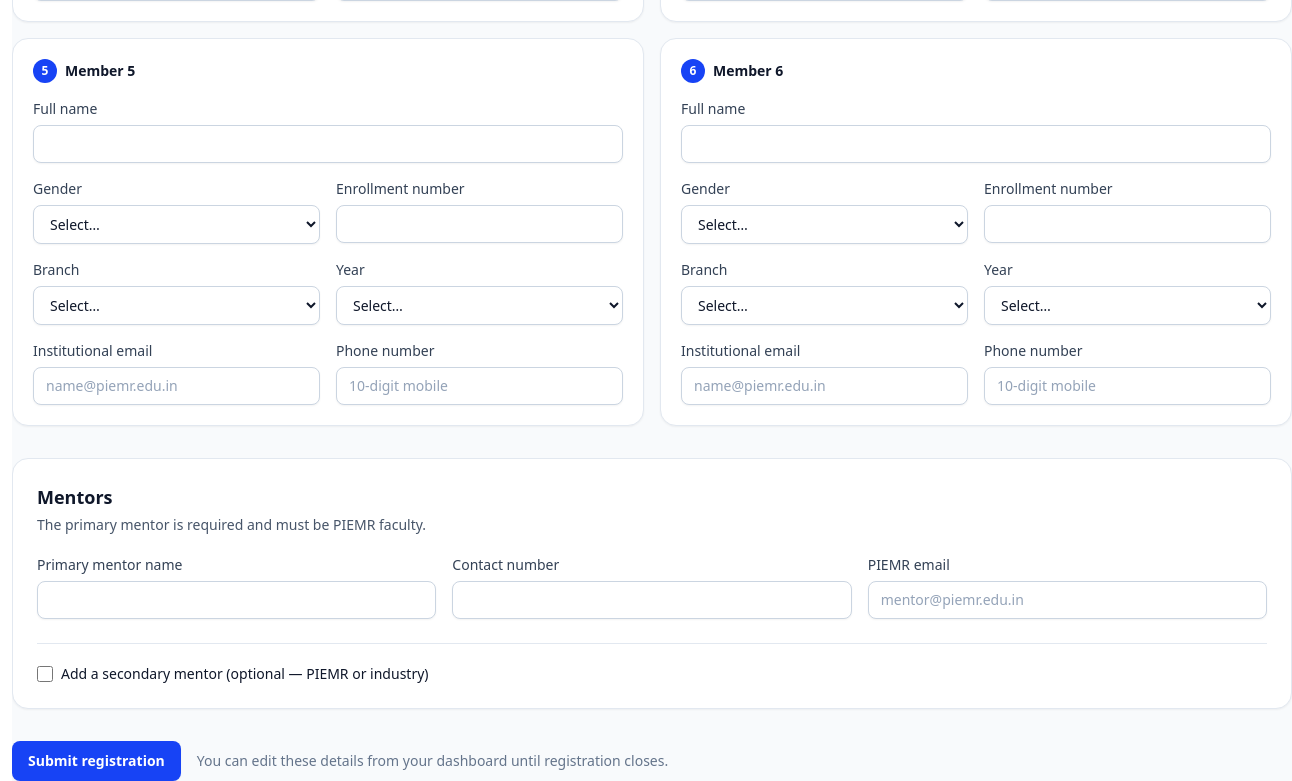
Test: team registration form › does not submit an empty form to the server
(page scrolled)
Click the button "Submit registration": (96, 761) [12, 741, 181, 780]
(page scrolled)
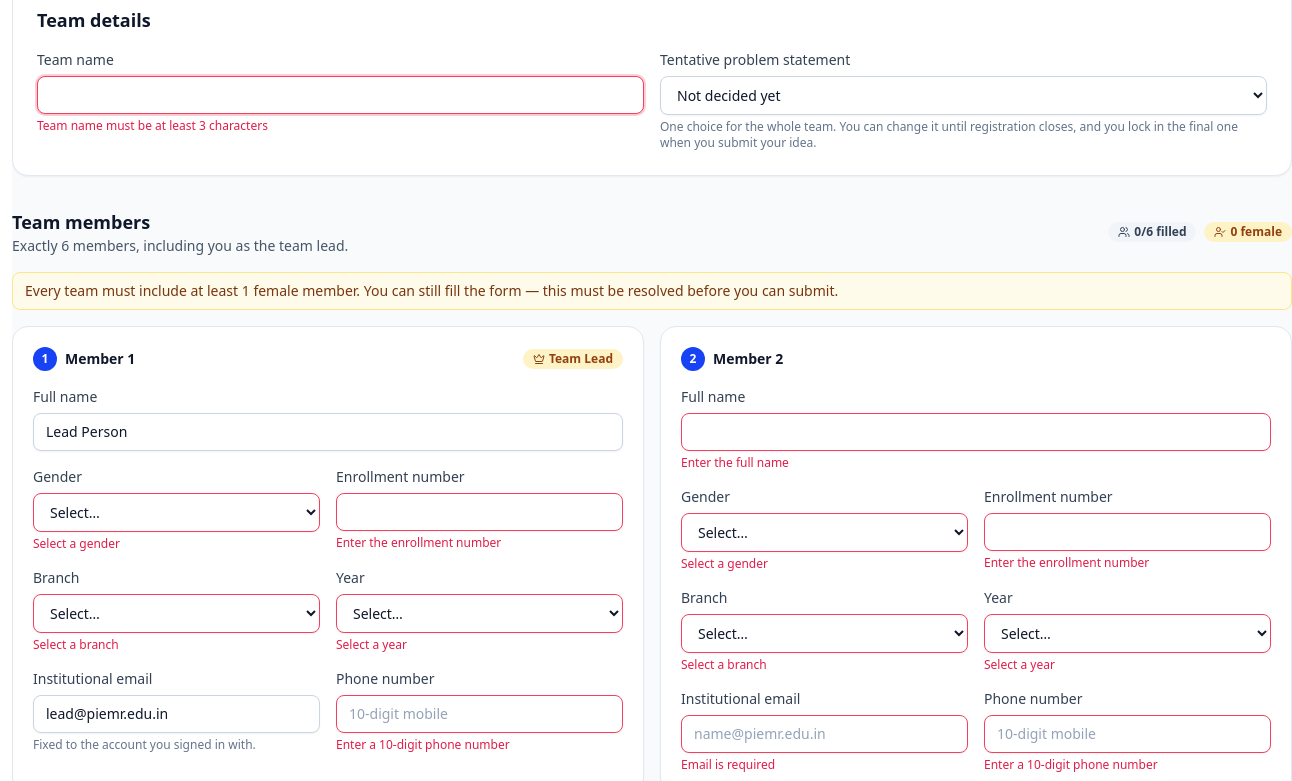
Expected: the text "Team name must be at least 3 characters" is shown, [37, 117, 268, 134]
